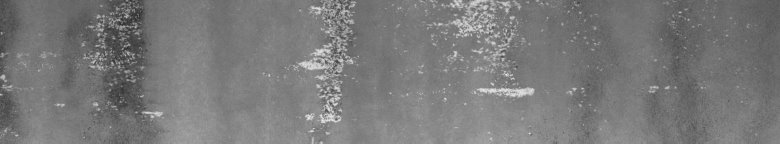hc: (4, 4, 162, 136)
